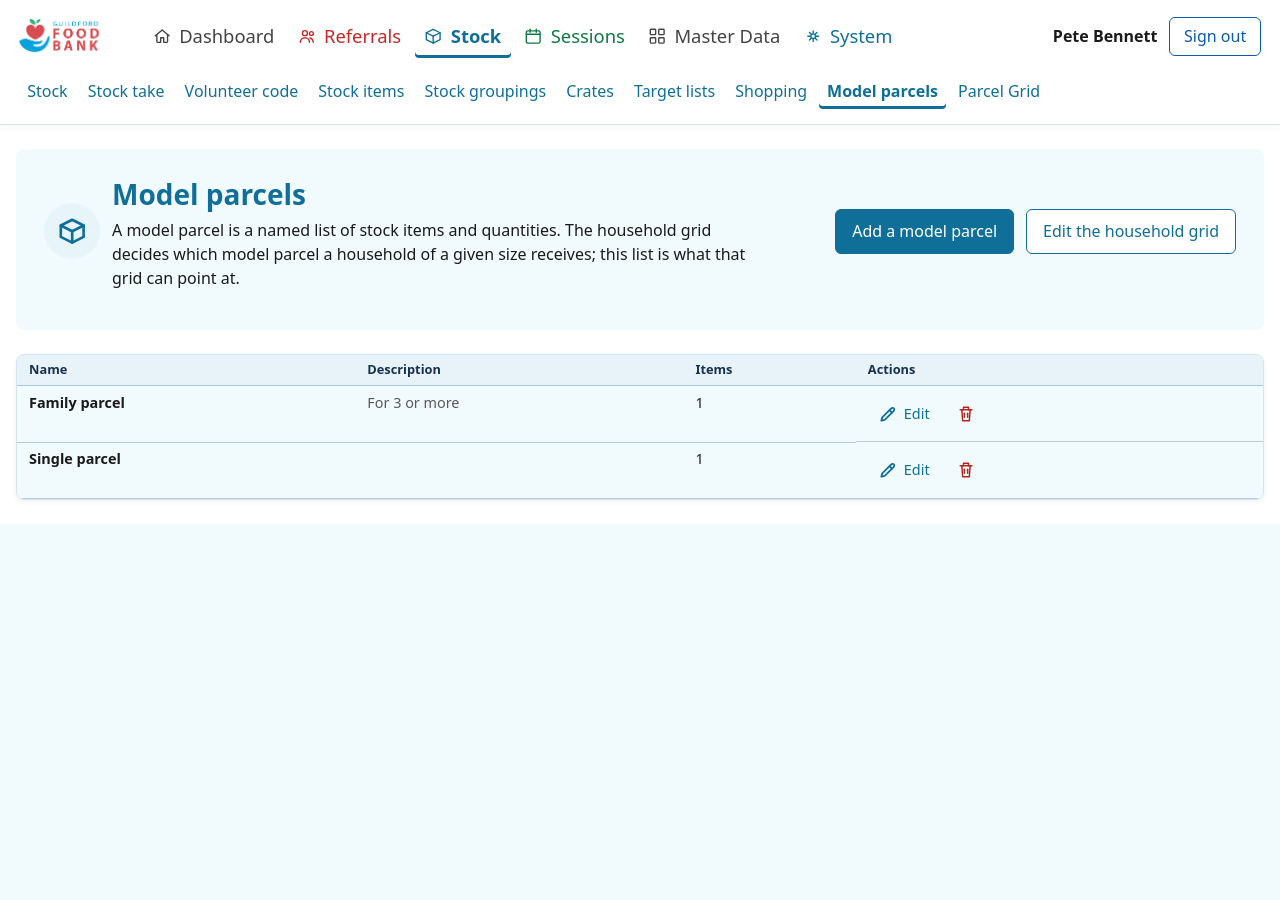
Test: the model parcels list › deletes a parcel that nothing references
Click the button named "Delete Family parcel" at (966, 414), box [944,392,988,436]
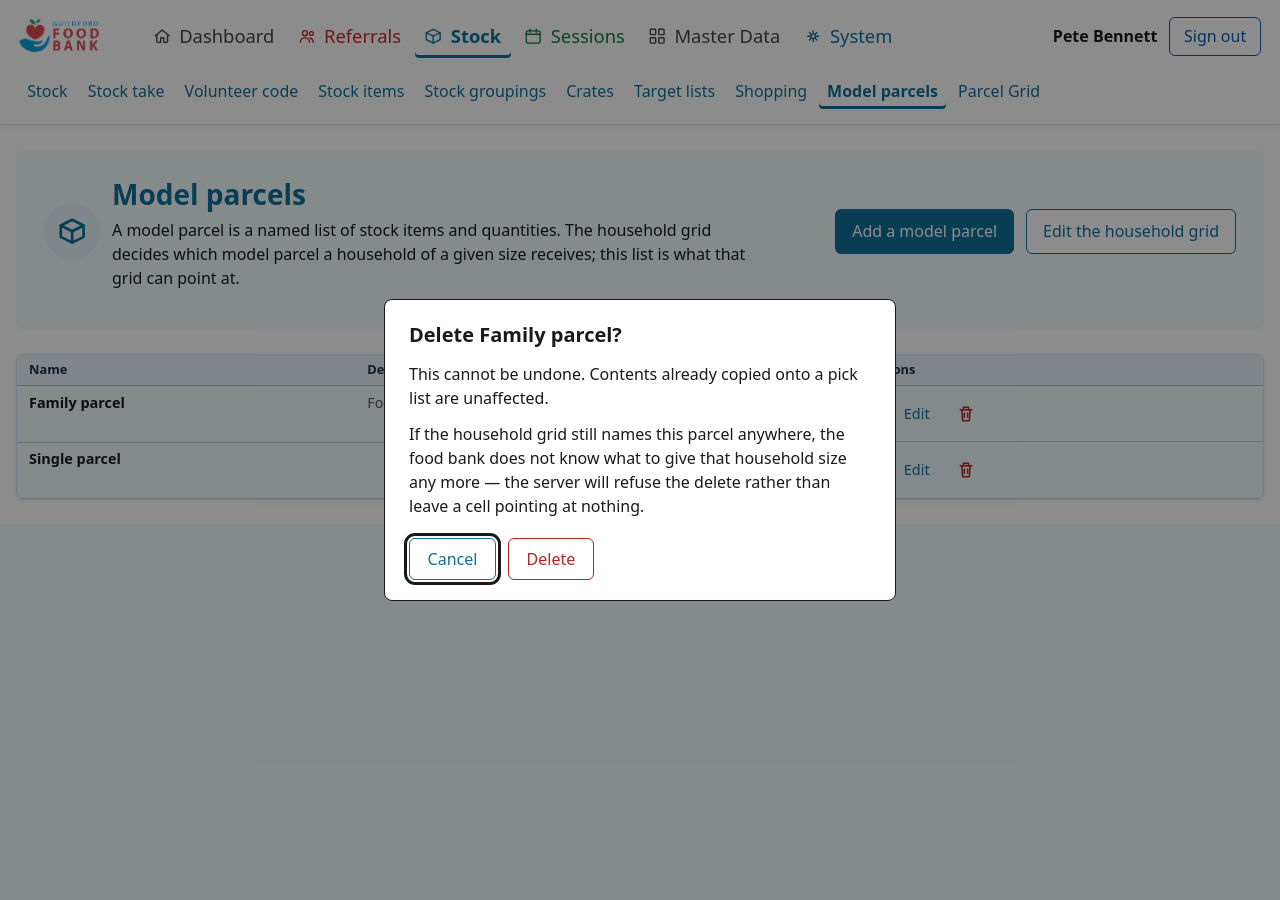
Click the button "Delete" at (551, 559), box [508,538,594,580]
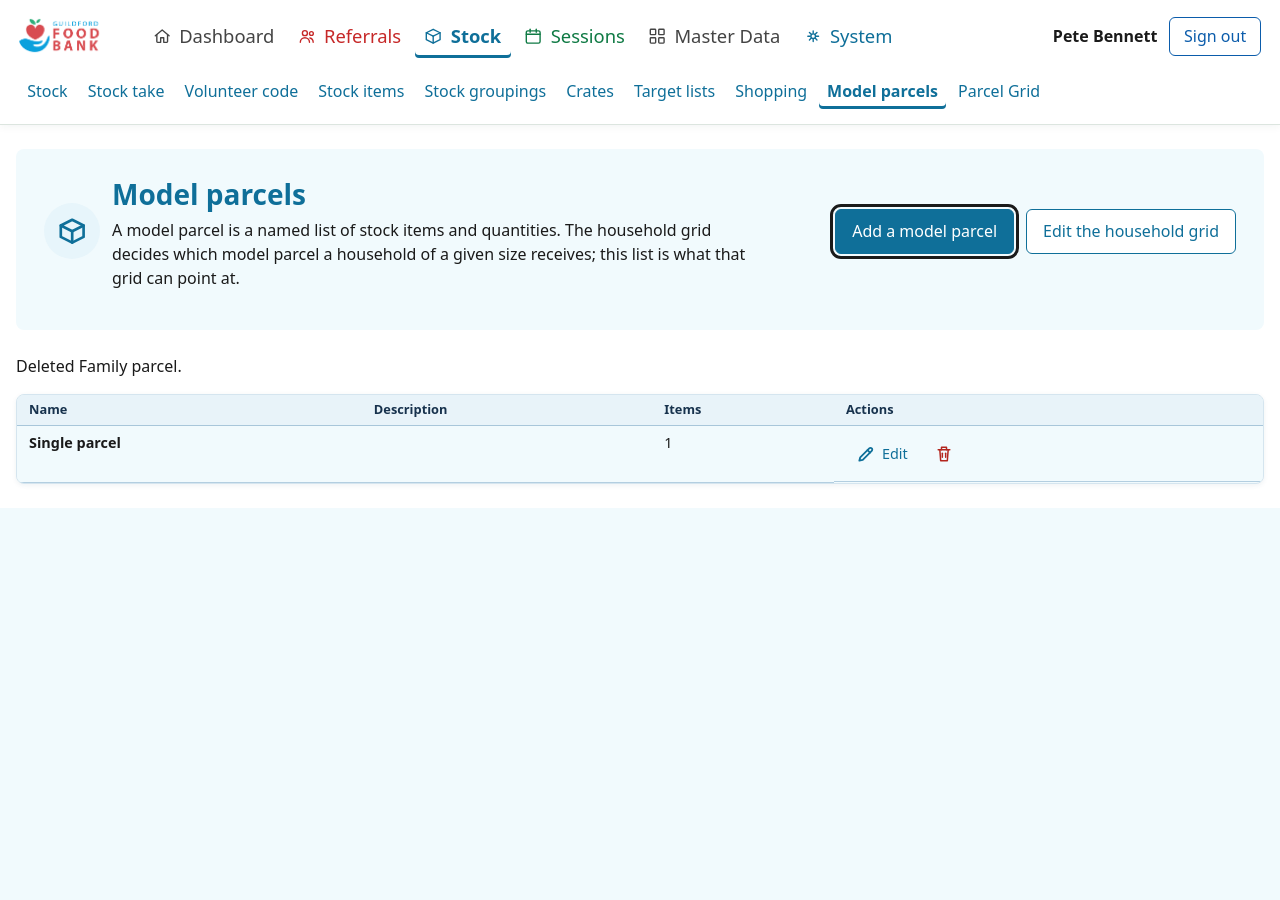
Now the message reads "Deleted Family parcel.", box [16,355,182,377]
